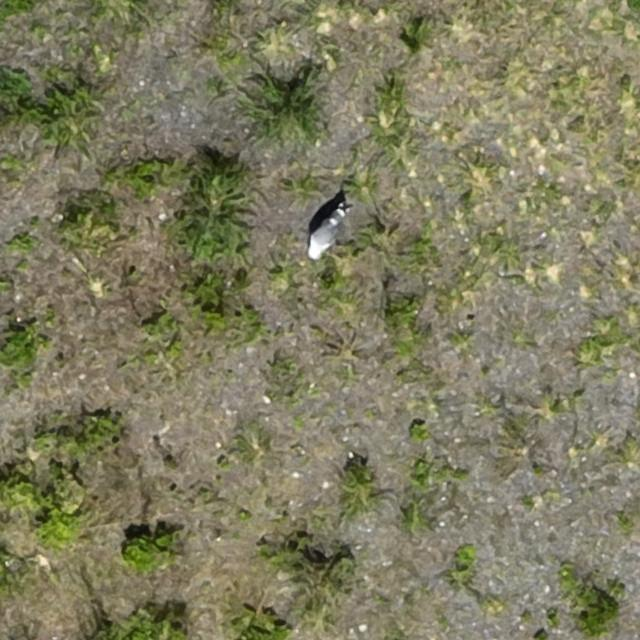umineko: (305, 205, 344, 263)
